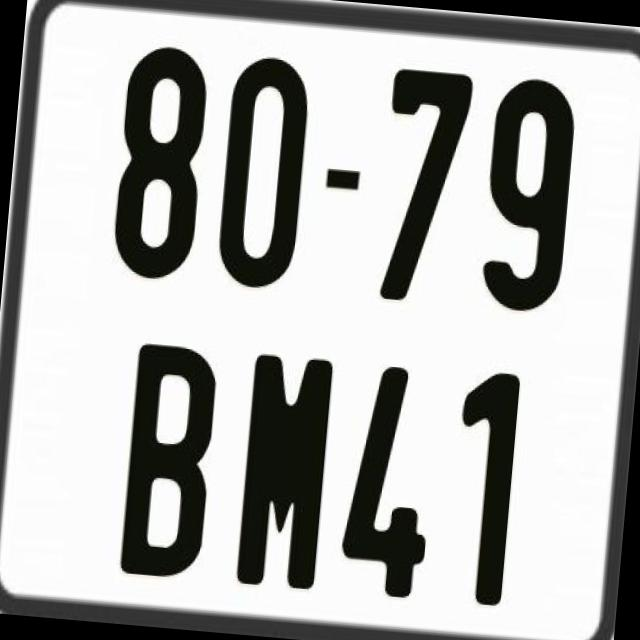0: (210, 53, 311, 300)
1: (446, 368, 522, 608)
4: (334, 362, 442, 600)
7: (372, 65, 470, 302)
8: (108, 43, 212, 290)
9: (474, 74, 578, 316)
B: (118, 341, 218, 577)
M: (232, 350, 334, 588)
